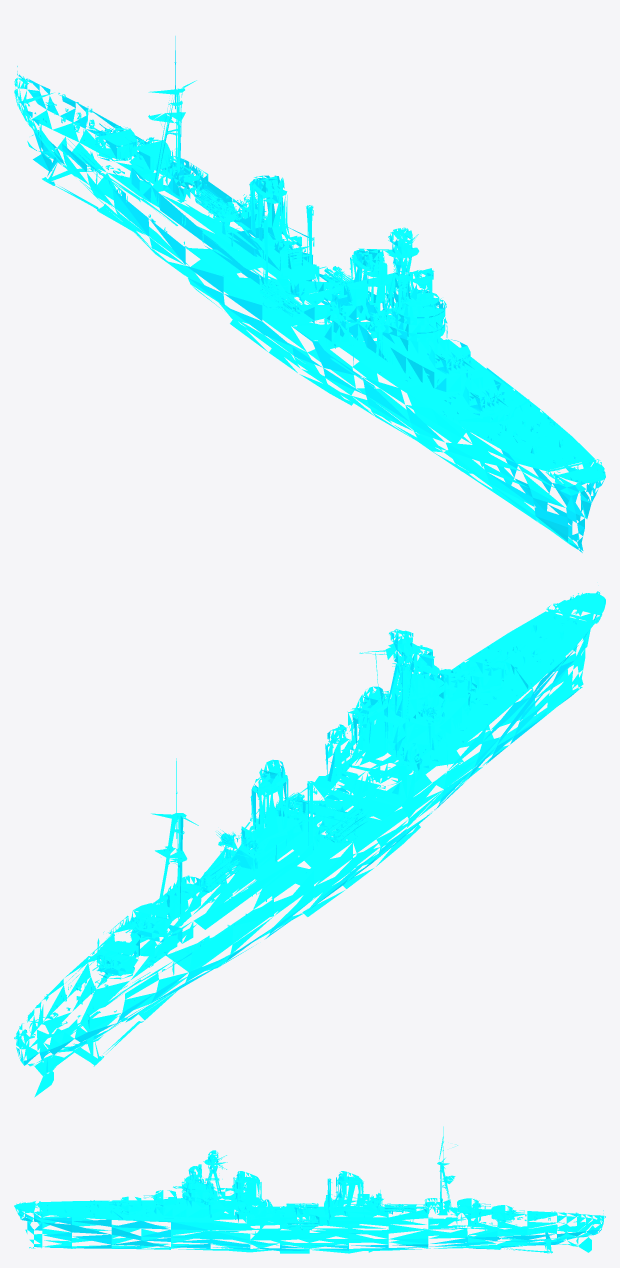
The model's file is PISD509.glb.
3 views of the same model, one above another, from view 1: azimuth 30°, elevation 25°; view 2: azimuth 150°, elevation 25°; view 3: azimuth 270°, elevation 25° (orthographic). The views are drawn at different scales.
Parts seen in each view (by area): view 1: hull_mid, main_battery, torpedo, hull_body; view 2: hull_mid, main_battery, torpedo, hull_body, aa_mount; view 3: hull_mid, main_battery, torpedo, hull_body.
Part boxes in pixels (bbox=[...]): hull_mid: bbox=[14, 36, 605, 552]; main_battery: bbox=[91, 123, 508, 412]; torpedo: bbox=[195, 189, 353, 317]; hull_body: bbox=[388, 227, 434, 298]; hull_mid: bbox=[14, 591, 605, 1097]; main_battery: bbox=[92, 654, 509, 976]; torpedo: bbox=[199, 792, 369, 892]; hull_body: bbox=[389, 629, 434, 671]; aa_mount: bbox=[215, 691, 439, 855]; hull_mid: bbox=[14, 1126, 605, 1253]; main_battery: bbox=[109, 1190, 524, 1221]; torpedo: bbox=[286, 1203, 416, 1227]; hull_body: bbox=[188, 1150, 218, 1179].
Size of the model in its own units: 0.9506 by 2.41 by 10.2.
